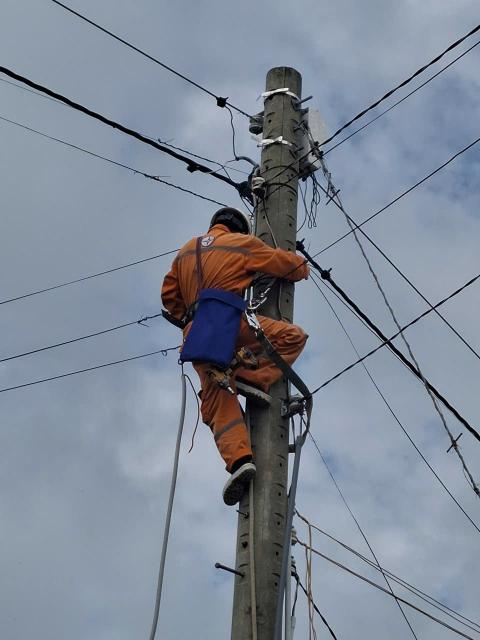harness: (161, 293, 259, 328)
helmet: (189, 198, 268, 232)
shoes: (213, 369, 287, 428), (203, 452, 266, 502)
